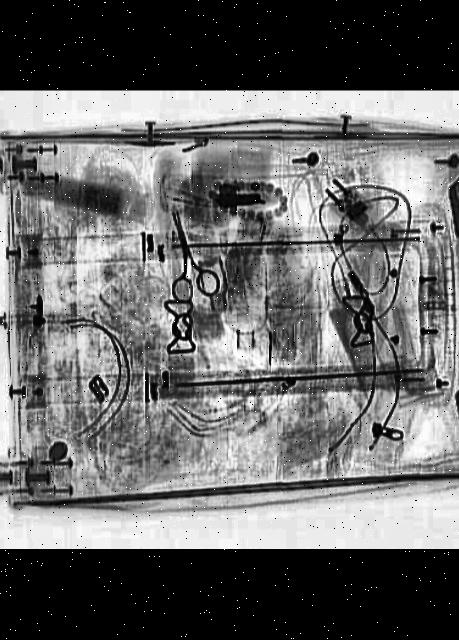Scissors: (153, 205, 224, 302)
